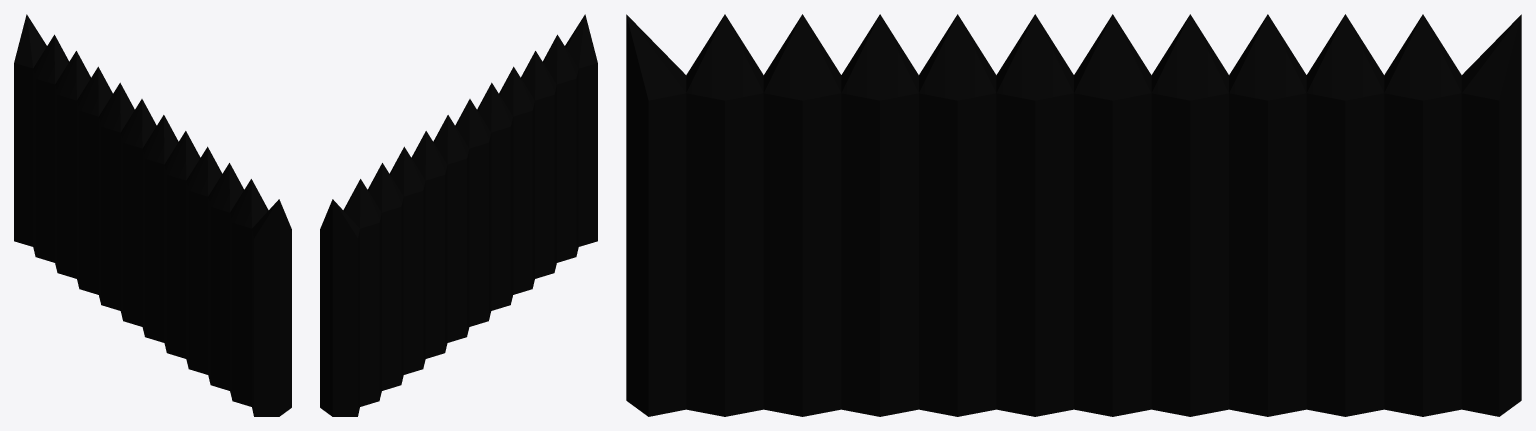
Rendered from fence.glb.
3 renders of one model, left to right at view 1: azimuth 30°, elevation 25°; view 2: azimuth 150°, elevation 25°; view 3: azimuth 270°, elevation 25°, orthographic. The views are drawn at different scales.
Parts seen in each view (by area): view 1: fence_wood_straight; view 2: fence_wood_straight; view 3: fence_wood_straight.
Boxes of the visible parts, bbox=[...] form: fence_wood_straight: bbox=[14, 14, 291, 416]; fence_wood_straight: bbox=[320, 14, 597, 416]; fence_wood_straight: bbox=[626, 14, 1521, 416].
Bounding box in the file's own units: 0.1 × 0.55 × 1.15.
1 material, 1 textured.
